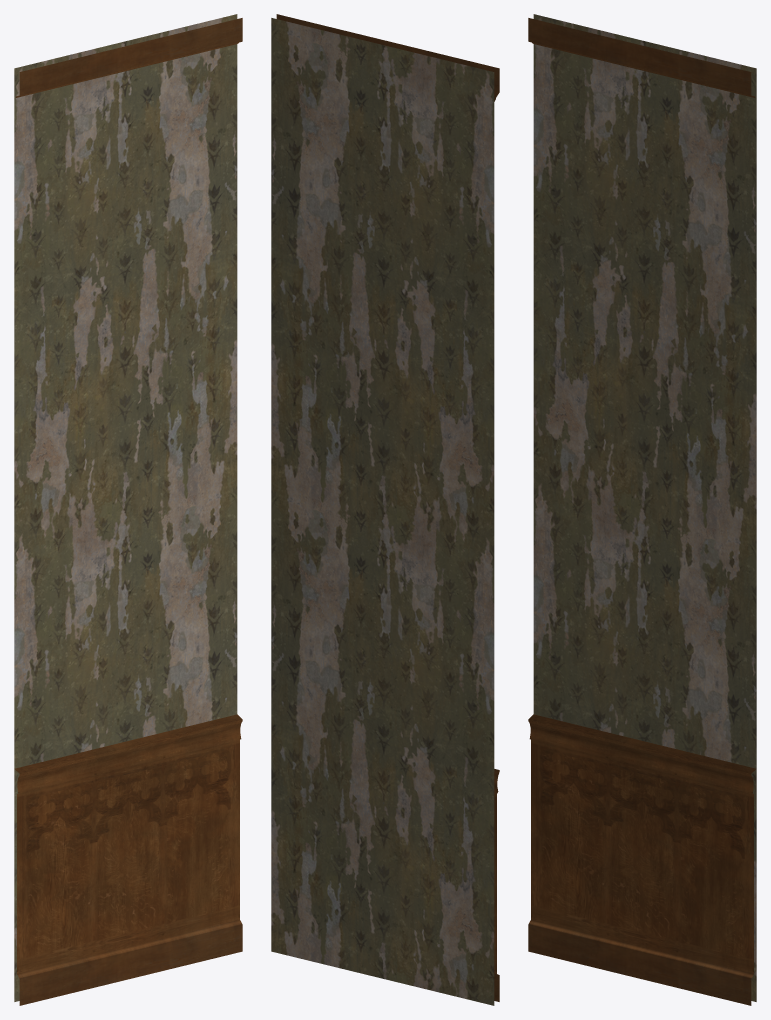
The model's file is SM_Wall_Paper_1m 1.fbx.
3 views of the same model, side by side, from view 1: azimuth 30°, elevation 25°; view 2: azimuth 150°, elevation 25°; view 3: azimuth 330°, elevation 25° (orthographic).
Visible parts, largest first — view 1: SM_Wall_Paper_1m; view 2: SM_Wall_Paper_1m; view 3: SM_Wall_Paper_1m.
Boxes of the visible parts, left/top/right/bottom form: SM_Wall_Paper_1m: left=14, top=14, right=242, bottom=1005; SM_Wall_Paper_1m: left=271, top=14, right=499, bottom=1005; SM_Wall_Paper_1m: left=528, top=14, right=756, bottom=1005.
Bounding box in the file's own units: 100 × 400 × 4.
